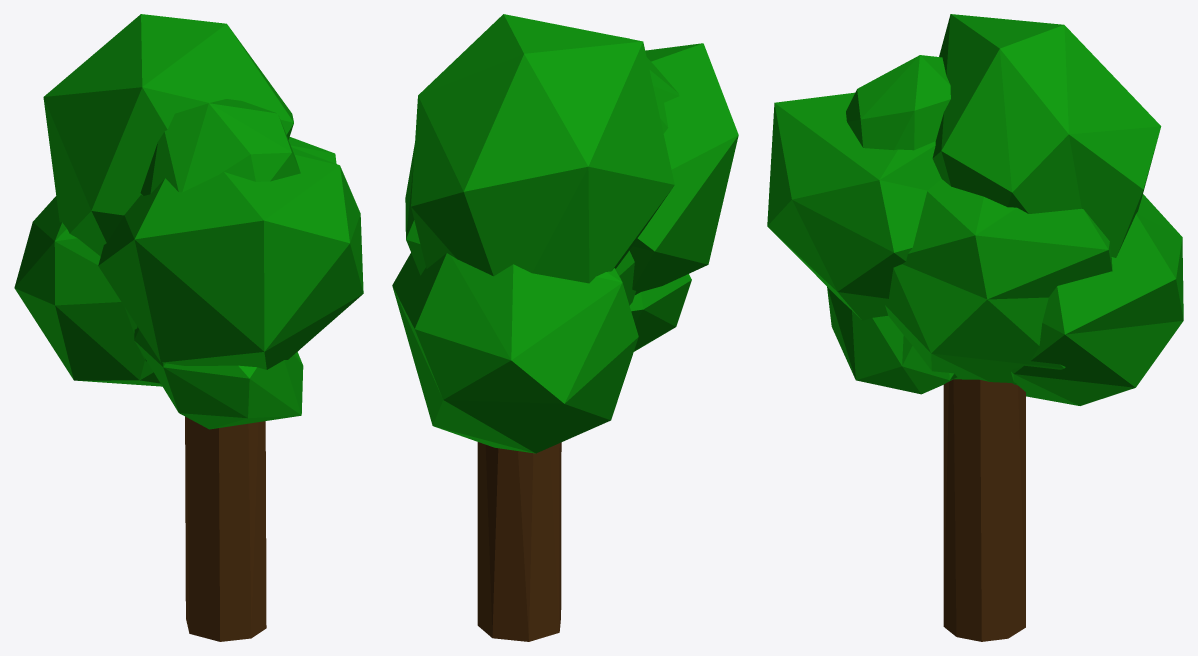
File: eik.fbx
3 renders of one model, left to right at view 1: azimuth 30°, elevation 25°; view 2: azimuth 150°, elevation 25°; view 3: azimuth 270°, elevation 25°, orthographic. The views are drawn at different scales.
Parts seen in each view (by area): view 1: Icosphere, Icosphere.002, Cylinder, Icosphere.001, Icosphere.004, Icosphere.005, Icosphere.003; view 2: Icosphere.002, Icosphere.001, Cylinder, Icosphere, Icosphere.005, Icosphere.003, Icosphere.004; view 3: Icosphere.002, Icosphere.003, Icosphere, Cylinder, Icosphere.001, Icosphere.004, Icosphere.005.
Part boxes in pixels (x1,y1,x2,y2): Icosphere: (98, 147, 363, 369); Icosphere.002: (43, 14, 293, 256); Cylinder: (185, 416, 266, 641); Icosphere.001: (14, 196, 162, 386); Icosphere.004: (140, 99, 300, 195); Icosphere.005: (134, 328, 303, 429); Icosphere.003: (125, 137, 336, 361); Icosphere.002: (411, 14, 674, 283); Icosphere.001: (392, 253, 638, 453); Cylinder: (477, 442, 561, 641); Icosphere: (629, 43, 738, 294); Icosphere.005: (629, 274, 691, 351); Icosphere.003: (405, 143, 635, 305); Icosphere.004: (621, 37, 679, 133); Icosphere.002: (932, 14, 1161, 257); Icosphere.003: (885, 179, 1112, 384); Icosphere: (767, 92, 941, 320); Cylinder: (943, 379, 1025, 641); Icosphere.001: (1011, 194, 1183, 405); Icosphere.004: (846, 55, 950, 150); Icosphere.005: (827, 287, 957, 394).
Size of the model in its own units: 247 by 536 by 349.
